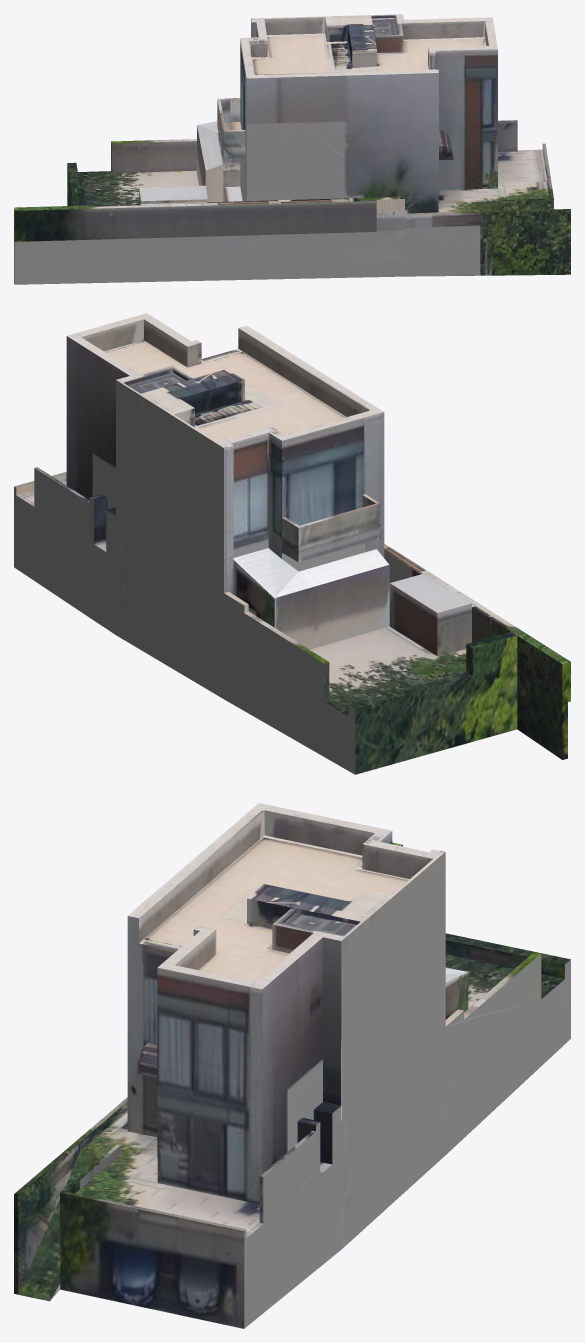
3 views of the same model, one above another, from view 1: azimuth 30°, elevation 25°; view 2: azimuth 150°, elevation 25°; view 3: azimuth 270°, elevation 25° (orthographic). The views are drawn at different scales.
Parts seen in each view (by area): view 1: B287624034501062A0; view 2: B287624034501062A0; view 3: B287624034501062A0.
Part boxes in pixels (left/top/right/bottom): B287624034501062A0: left=14, top=14, right=570, bottom=284; B287624034501062A0: left=14, top=313, right=570, bottom=774; B287624034501062A0: left=14, top=803, right=570, bottom=1328.
Size of the model in its own units: 30.82 by 12.16 by 19.91.
1 material, 1 textured.
